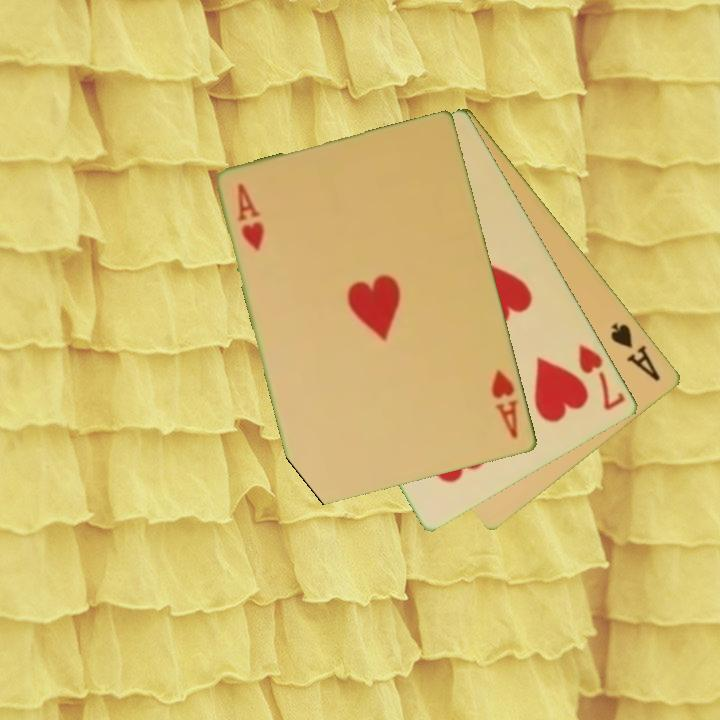7h: (575, 340, 629, 414)
Ah: (488, 366, 522, 442), (234, 180, 268, 254)
As: (607, 319, 664, 384)
